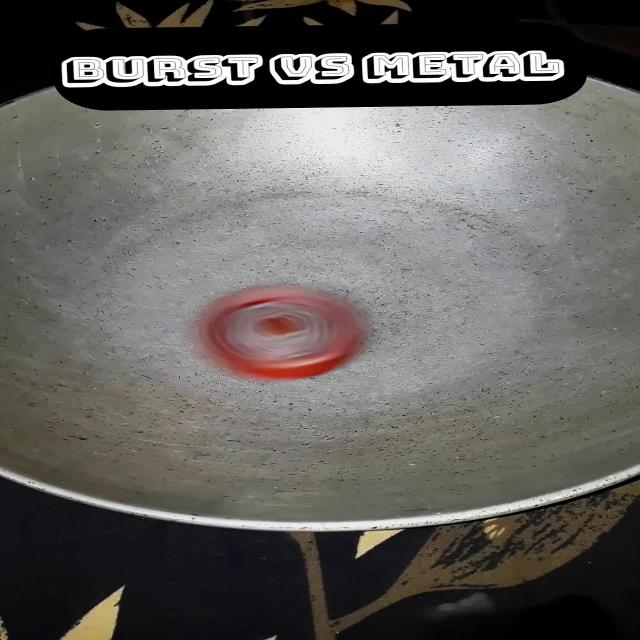beyblade: (191, 275, 384, 389)
